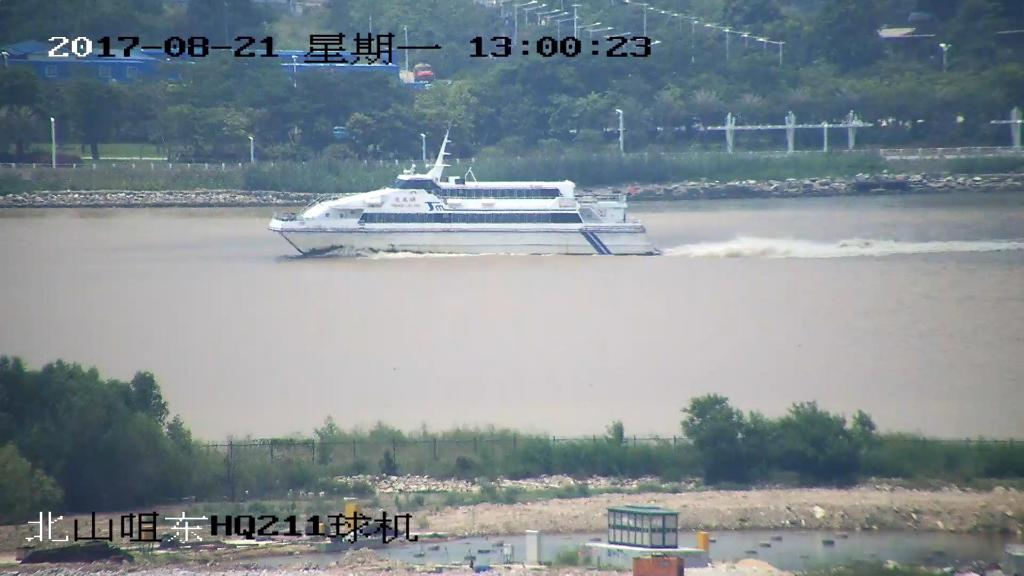PassengerShip: (268, 127, 670, 263)
